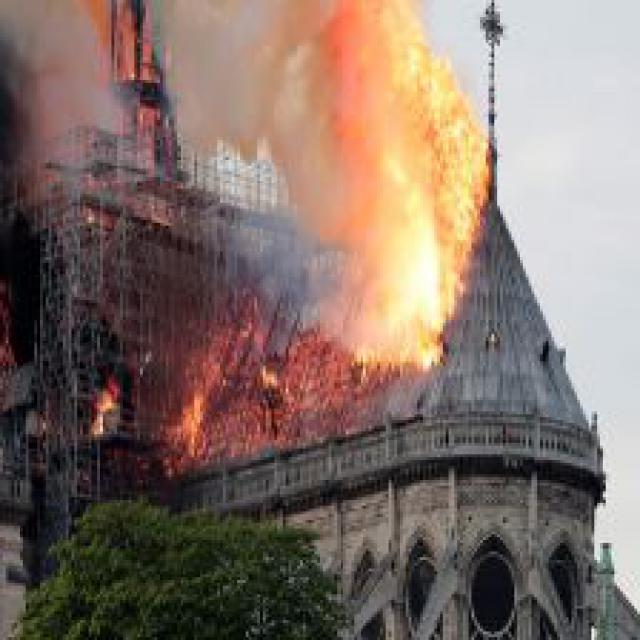fire: (283, 3, 508, 366)
